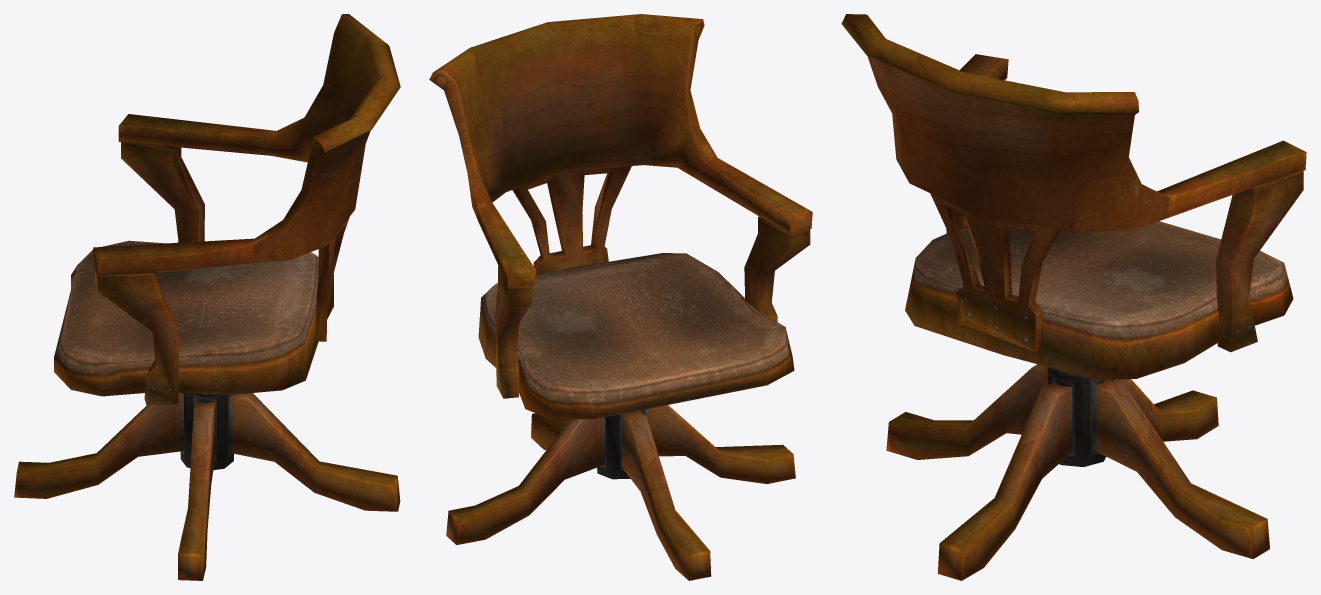
Rendered from silla_escritorio.FBX.
3 views of the same model, side by side, from view 1: azimuth 30°, elevation 25°; view 2: azimuth 150°, elevation 25°; view 3: azimuth 270°, elevation 25° (orthographic). The views are drawn at different scales.
Parts seen in each view (by area): view 1: silla; view 2: silla; view 3: silla.
Part boxes in pixels (box(x1,y1,x2,y2)): silla: box(14, 14, 400, 580); silla: box(429, 14, 812, 580); silla: box(841, 14, 1306, 580).
Bounding box in the file's own units: 23.54 × 29.3 × 24.69.
